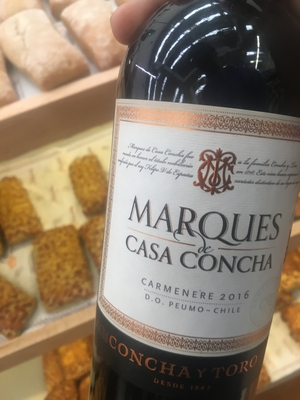marques de casa concha carmenere: (75, 25, 300, 394)
